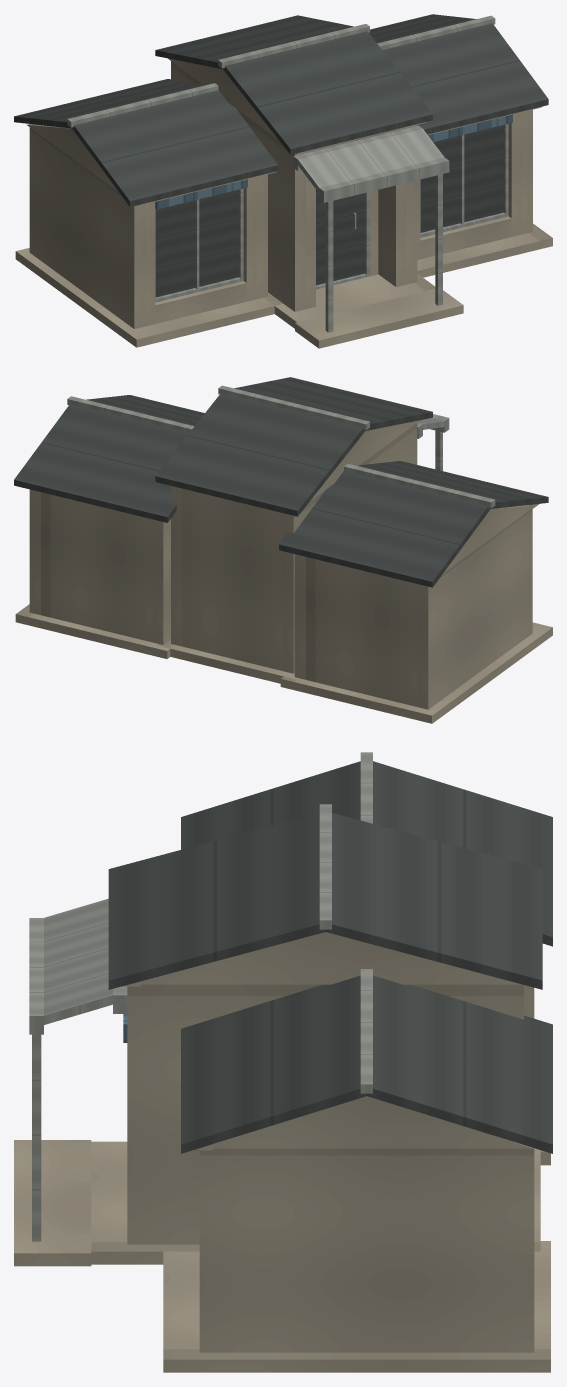
Rendered from ljubljana.glb.
3 renders of one model, top to bottom at view 1: azimuth 30°, elevation 25°; view 2: azimuth 150°, elevation 25°; view 3: azimuth 270°, elevation 25°, orthographic. The views are drawn at different scales.
Parts seen in each view (by area): view 1: ljubljana; view 2: ljubljana; view 3: ljubljana.
Boxes of the visible parts, box(x1,y1,x2,y2) form: ljubljana: box(14, 14, 552, 348); ljubljana: box(14, 377, 552, 723); ljubljana: box(14, 752, 552, 1372).
Bounding box in the file's own units: 7.58 × 3.7 × 5.2.
1 material, 1 textured.
